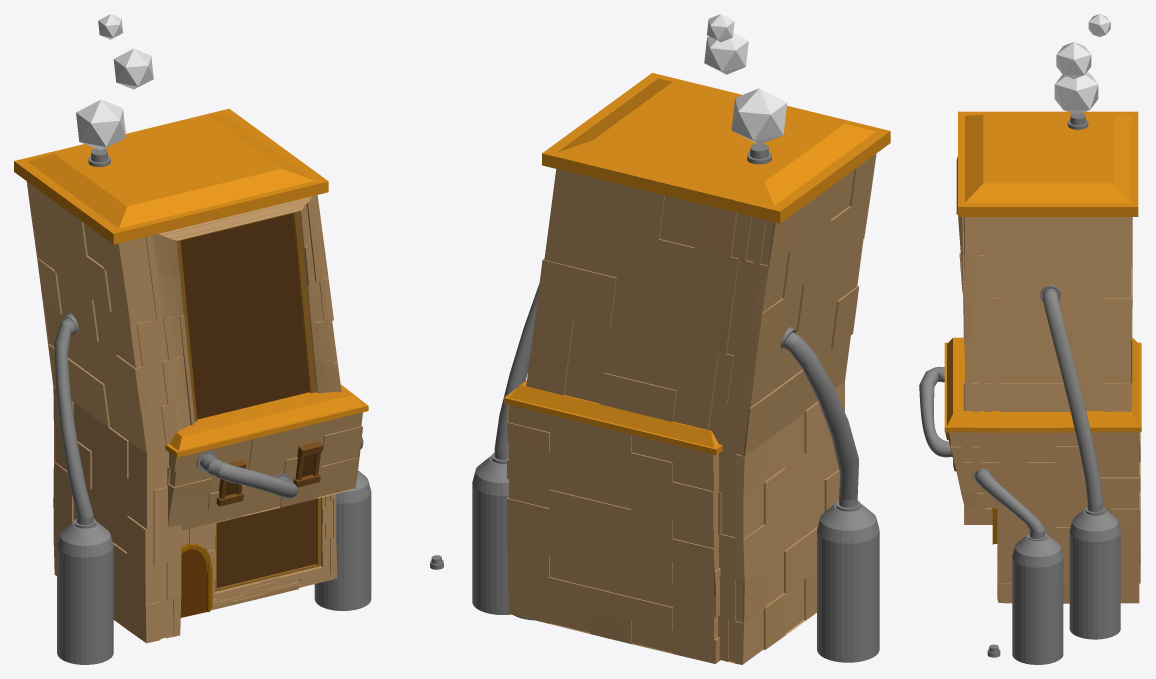
The model's file is Shop_Building_5.fbx.
3 views of the same model, side by side, from view 1: azimuth 30°, elevation 25°; view 2: azimuth 150°, elevation 25°; view 3: azimuth 270°, elevation 25° (orthographic). The views are drawn at different scales.
Visible parts, largest first — view 1: Cube, Cylinder.002, Cylinder.805, Cylinder.006, Cube.466, Icosphere.054, Cylinder.008, Icosphere.055, Cube.467, Cube.001; view 2: Cube, Cylinder.002, Cylinder.001, Cylinder.006, Icosphere.054, Cylinder.004, Icosphere.055, Icosphere.056; view 3: Cube, Cylinder.001, Cylinder.805, Cylinder.004, Cylinder.008, Icosphere.054, Cylinder.003, Icosphere.055, Icosphere.056.
Boxes of the visible parts, bbox=[...] form: Cube: bbox=[14, 108, 368, 643]; Cylinder.002: bbox=[57, 521, 113, 664]; Cylinder.805: bbox=[314, 470, 371, 610]; Cylinder.006: bbox=[54, 313, 96, 528]; Cube.466: bbox=[180, 543, 212, 617]; Icosphere.054: bbox=[76, 99, 126, 150]; Cylinder.008: bbox=[196, 451, 297, 498]; Icosphere.055: bbox=[113, 48, 153, 89]; Cube.467: bbox=[293, 441, 322, 487]; Cube.001: bbox=[216, 460, 246, 506]; Cube: bbox=[504, 73, 890, 664]; Cylinder.002: bbox=[817, 503, 879, 662]; Cylinder.001: bbox=[472, 456, 510, 614]; Cylinder.006: bbox=[781, 327, 860, 511]; Icosphere.054: bbox=[731, 88, 787, 144]; Cylinder.004: bbox=[491, 283, 539, 463]; Icosphere.055: bbox=[704, 33, 748, 74]; Icosphere.056: bbox=[707, 14, 734, 42]; Cube: bbox=[944, 111, 1141, 603]; Cylinder.001: bbox=[1069, 509, 1120, 639]; Cylinder.805: bbox=[1012, 533, 1063, 664]; Cylinder.004: bbox=[1040, 284, 1105, 515]; Cylinder.008: bbox=[919, 367, 952, 457]; Icosphere.054: bbox=[1054, 72, 1098, 114]; Cylinder.003: bbox=[972, 468, 1047, 540]; Icosphere.055: bbox=[1056, 42, 1091, 78]; Icosphere.056: bbox=[1088, 14, 1110, 37].
Size of the model in its own units: 1506 by 2375 by 867.
